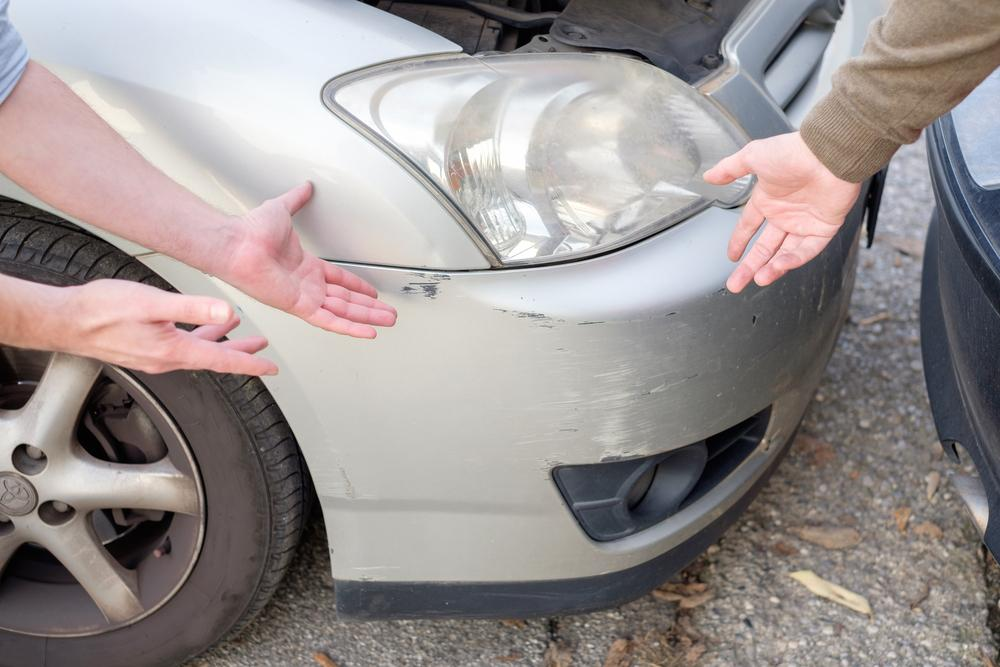scratch: (402, 271, 714, 472)
